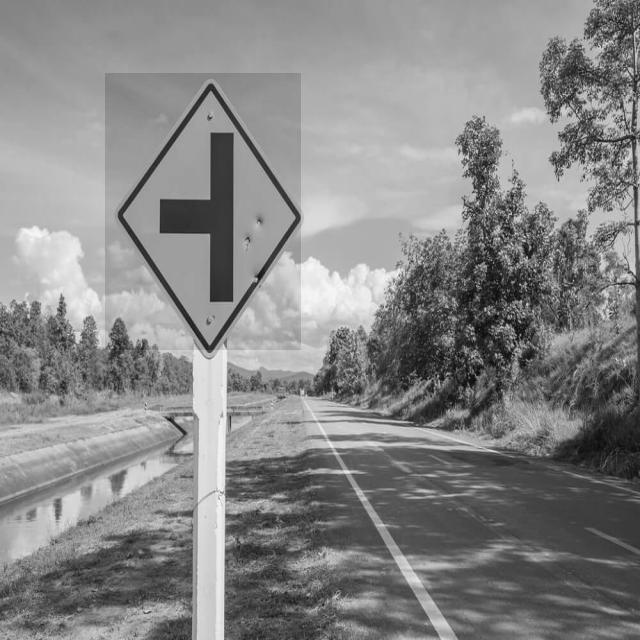side road left: (105, 79, 317, 355)
